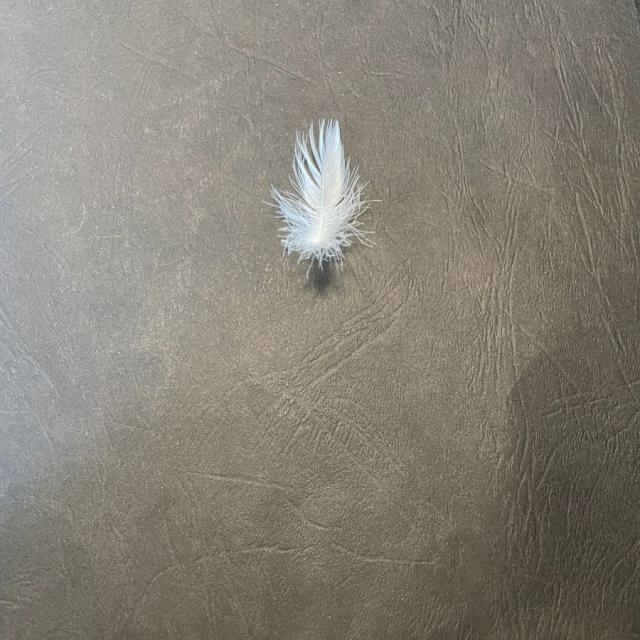feather: (274, 114, 376, 278)
